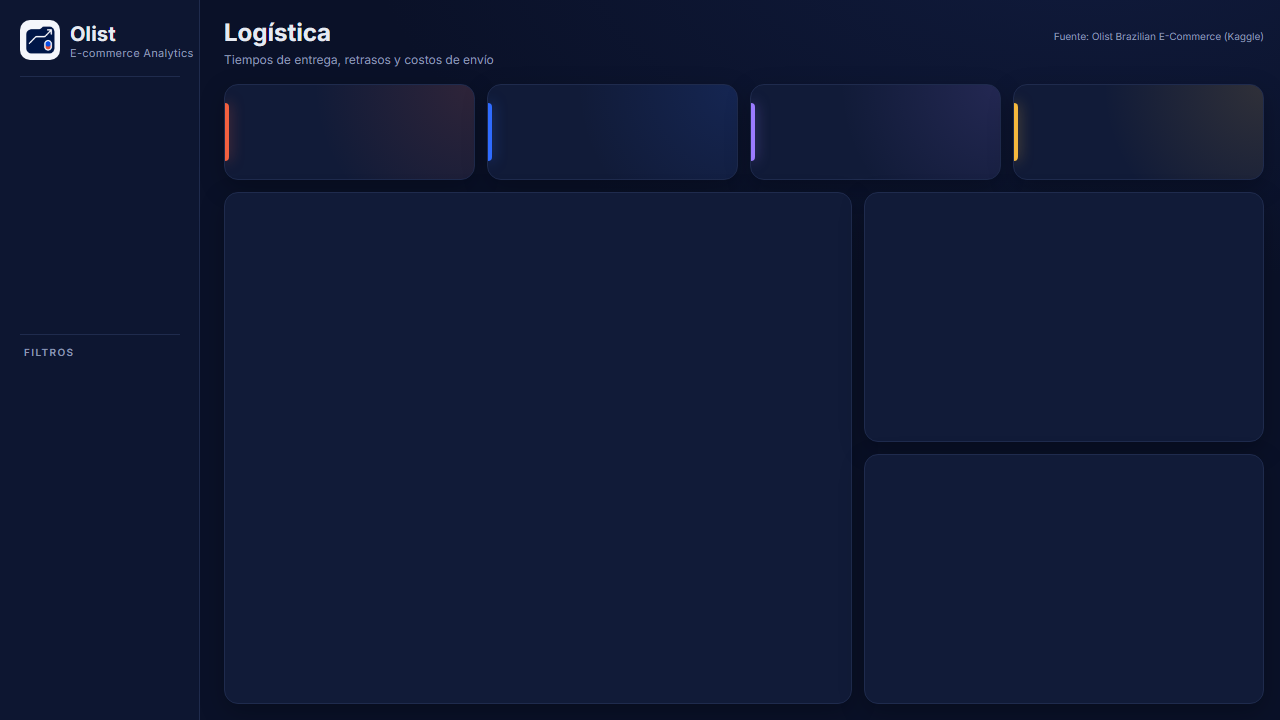

The page's visual inventory and layout, read from the dashboard file:
{"tool":"powerbi","page":{"name":"✅ 3. Análisis de Logística","canvas":[1280,720],"ordinal":2},"visuals":[{"type":"lineChart","title":"Efectividad de Entregas","fields":{"Category":["df_nuevas_columnas.Año-Mes"],"Y":["df_nuevas_columnas.Tiempo Estimado Entrega","df_nuevas_columnas.Tiempo Promedio Entrega"]},"box":[51.3,397.8,620.8,291.9],"z":1000},{"type":"pieChart","title":"Tipo de Envío Según Costo","fields":{"Category":["df_nuevas_columnas.Costo_Envio_Categoria"],"Y":["df_nuevas_columnas.Pedidos_por_Categoria_Costo"]},"box":[684.3,35.7,558.6,267.1],"z":6000},{"type":"textbox","box":[51.1,10.5,588.9,87.1],"z":7000},{"type":"image","box":[1150,10,120,88.3],"z":8000},{"type":"card","title":"% Pedidos con Retraso","fields":{"Values":["df_nuevas_columnas.% Pedidos con Retraso"]},"box":[51.7,141.7,228.3,105],"z":9000},{"type":"card","title":"Costo Promedio Envío","fields":{"Values":["df_nuevas_columnas.Costo Promedio Envío"]},"box":[305,141.7,228.3,105],"z":10000},{"type":"card","title":"Tiempo Medio Entrega","fields":{"Values":["df_nuevas_columnas.Tiempo Promedio Entrega"]},"box":[177.1,265.7,227.1,105.7],"z":11000},{"type":"map","title":"Porcentaje de Pedidos por Estado","fields":{"Category":["df_nuevas_columnas.Estado Completo"],"Series":["df_nuevas_columnas.Region"],"Size":["df_nuevas_columnas.Order_Count_Pct"]},"box":[685,316.7,558.3,373.3],"z":12000}]}

Visuals, with their boxes on the page's 1280x720 design canvas (x1, y1, x2, y2). These are canvas units, not pixel positions in the 1280x720 screenshot, which may show the page scaled, cropped or inside an application window:
"Efectividad de Entregas" lineChart: box=[51, 398, 672, 690]
"Tipo de Envío Según Costo" pieChart: box=[684, 36, 1243, 303]
textbox: box=[51, 10, 640, 98]
image: box=[1150, 10, 1270, 98]
"% Pedidos con Retraso" card: box=[52, 142, 280, 247]
"Costo Promedio Envío" card: box=[305, 142, 533, 247]
"Tiempo Medio Entrega" card: box=[177, 266, 404, 371]
"Porcentaje de Pedidos por Estado" map: box=[685, 317, 1243, 690]
